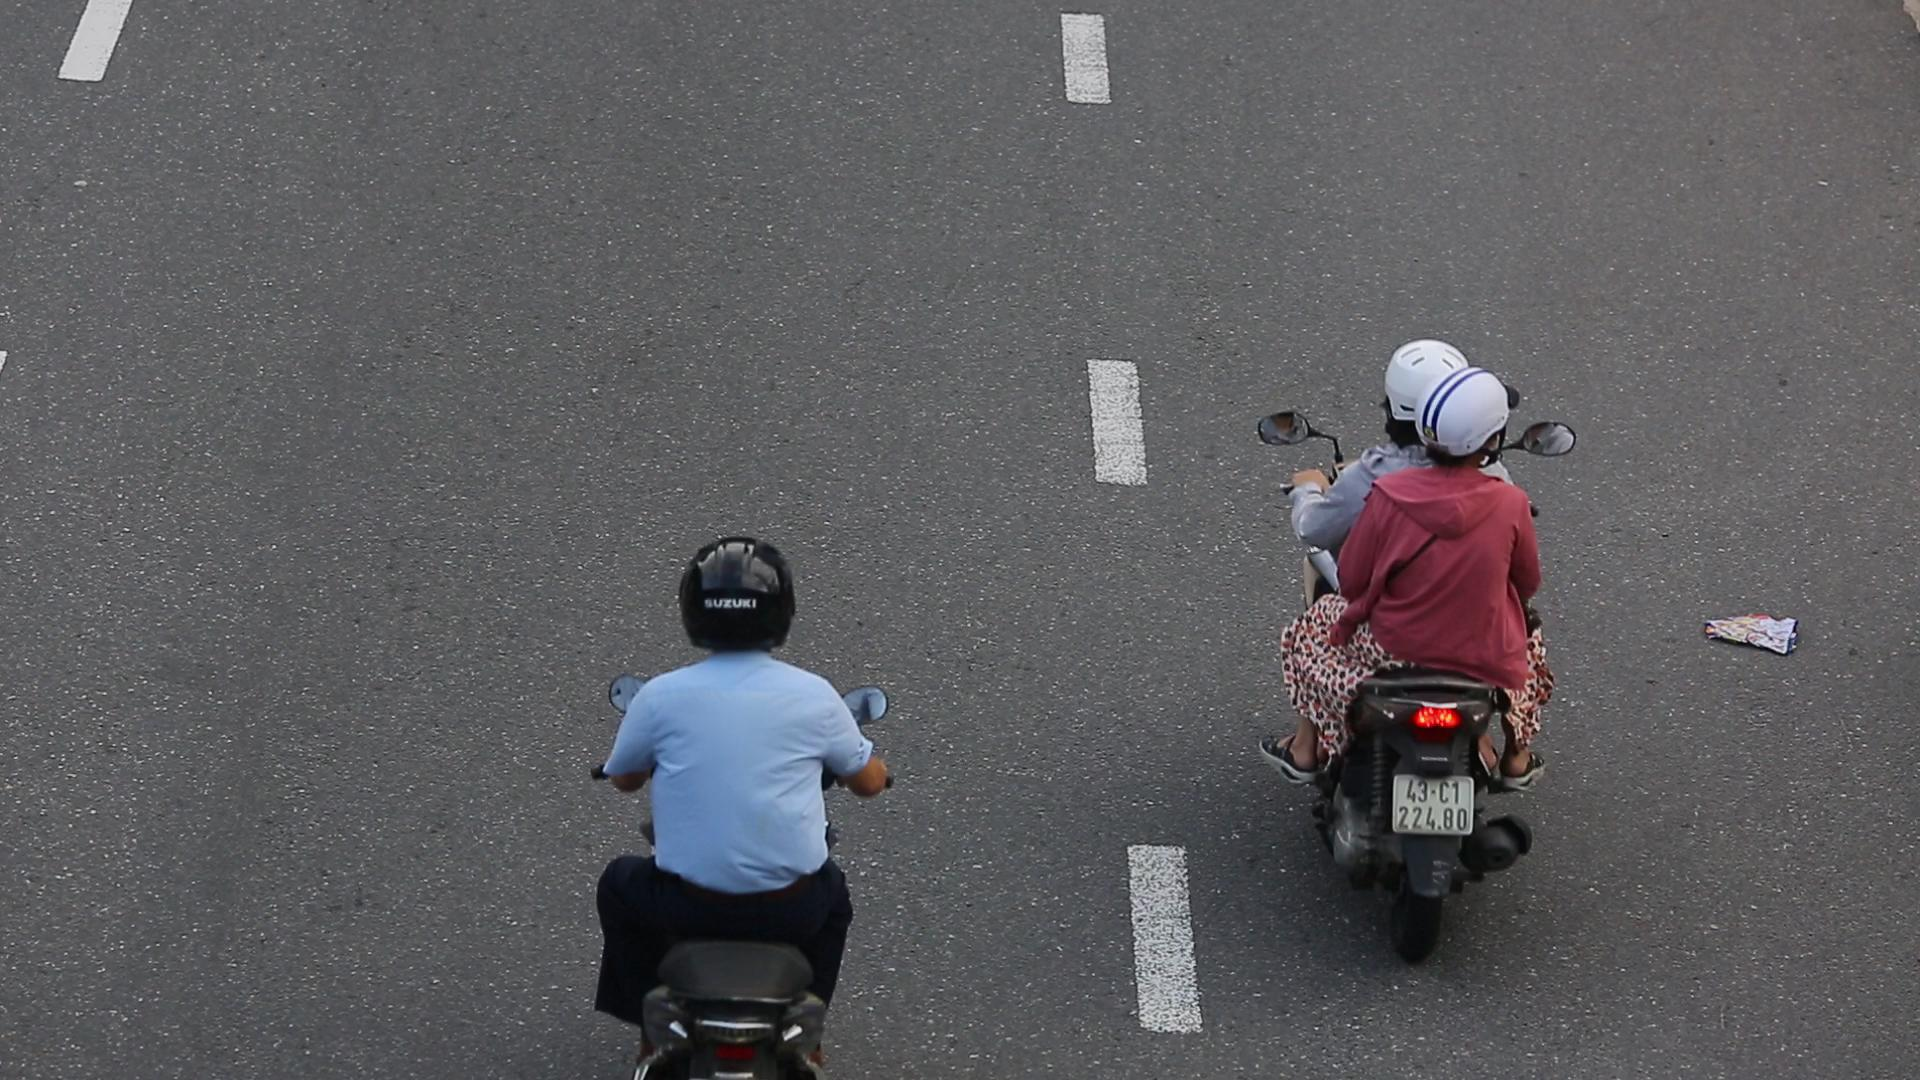motobike: (1257, 330, 1572, 972)
